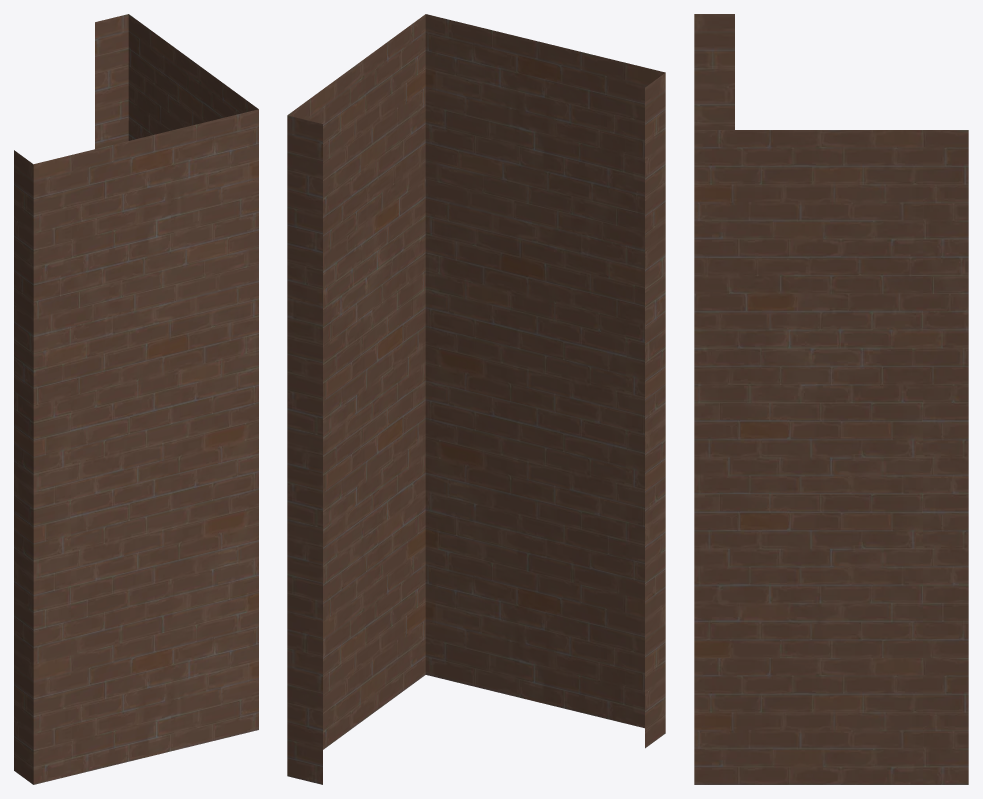
The model's file is Brick_CornerColumn_Center.glb.
The picture shows the model from 3 angles, left to right: view 1: azimuth 30°, elevation 25°; view 2: azimuth 150°, elevation 25°; view 3: azimuth 270°, elevation 25°; orthographic projection. The views are drawn at different scales.
Parts seen in each view (by area): view 1: Brick_CornerColumn_Center; view 2: Brick_CornerColumn_Center; view 3: Brick_CornerColumn_Center.
Boxes of the visible parts, x1,y1,x2,y2 form: Brick_CornerColumn_Center: (14,14,258,784); Brick_CornerColumn_Center: (287,14,665,784); Brick_CornerColumn_Center: (694,14,968,784).
Size of the model in its own units: 1.14 by 3 by 1.14.
1 material, 1 textured.
